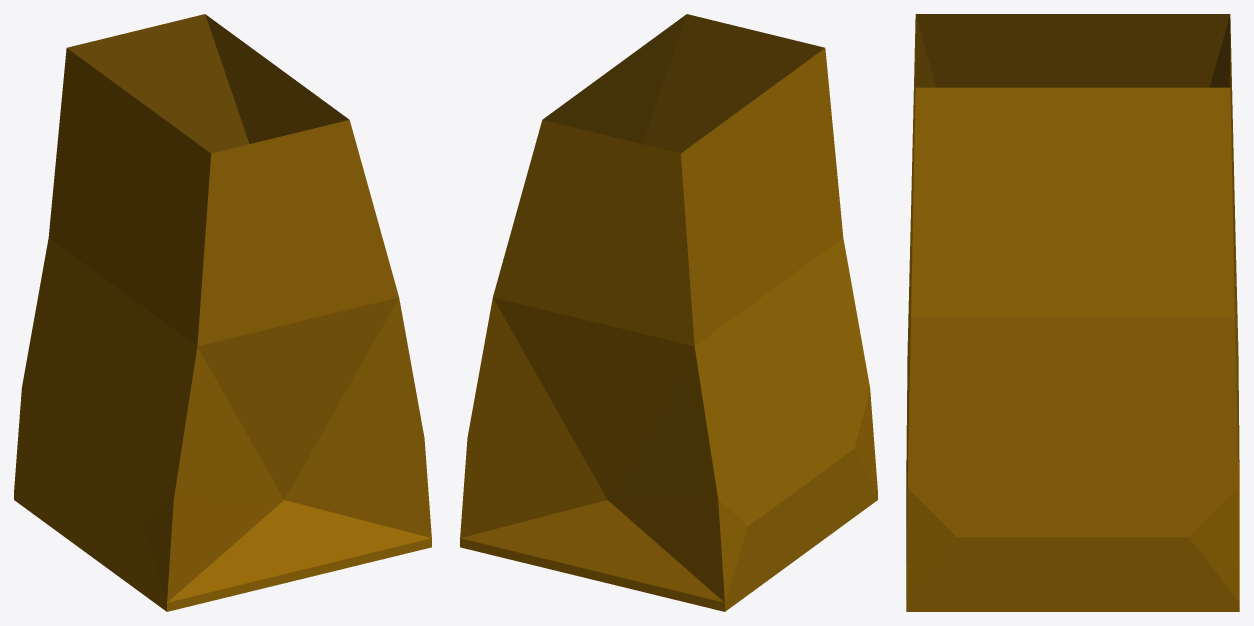
The model's file is Paperbag.fbx.
3 renders of one model, left to right at view 1: azimuth 30°, elevation 25°; view 2: azimuth 150°, elevation 25°; view 3: azimuth 270°, elevation 25°, orthographic. The views are drawn at different scales.
Parts seen in each view (by area): view 1: Paperbag; view 2: Paperbag; view 3: Paperbag.
Boxes of the visible parts, x1=… form: Paperbag: x1=14, y1=14, x2=431, y2=611; Paperbag: x1=460, y1=14, x2=877, y2=611; Paperbag: x1=906, y1=14, x2=1239, y2=611.
Size of the model in its own units: 20 by 32 by 20.
